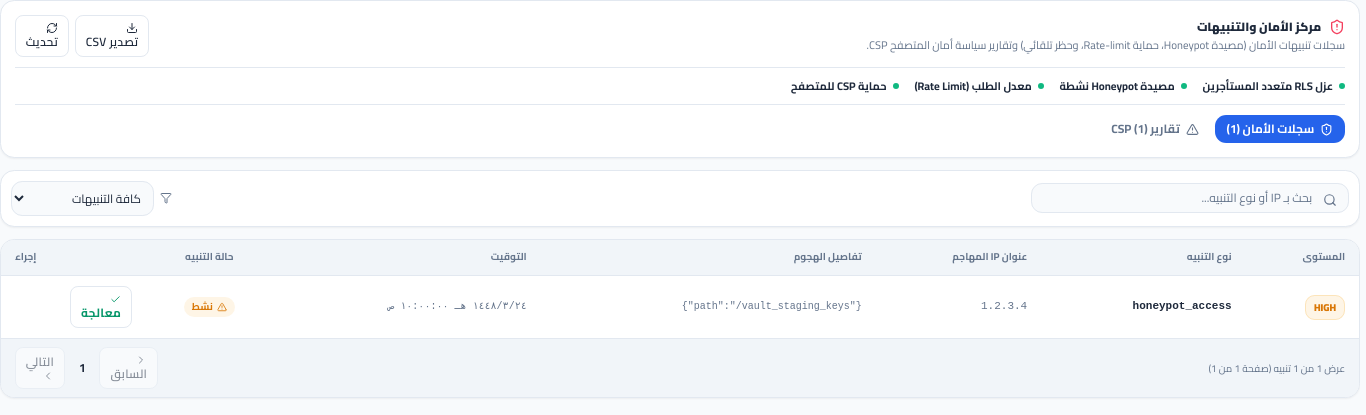
Test: SecurityAuditingHub — دخان بعد نقل الجداول إلى AdminTableShell › يبدّل إلى جدول CSP عند الضغط على تبويبه
Click the button "تقارير CSP (1)" at [1155, 129], box [1099,115,1211,143]
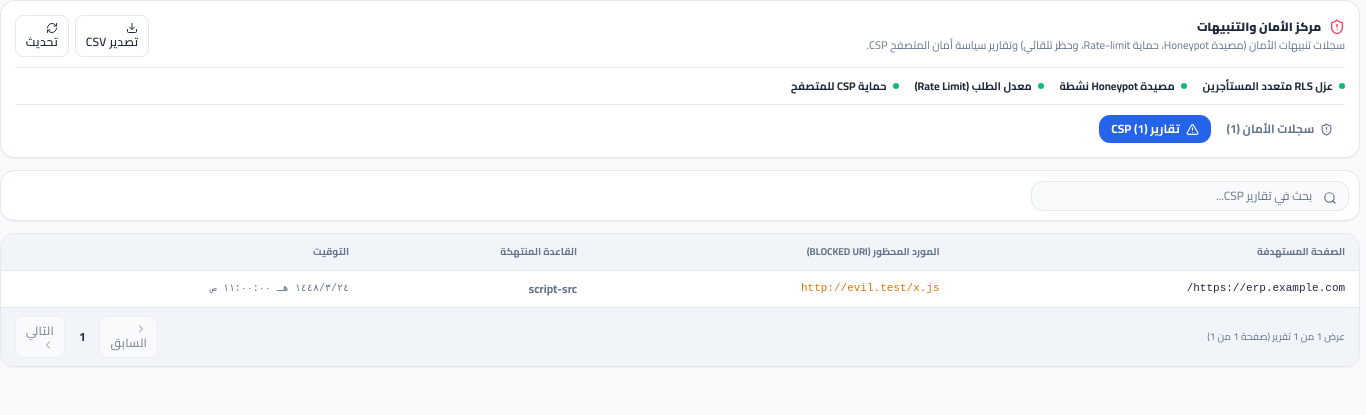
expect the column heading "الصفحة المستهدفة" is shown: met, box [954,234,1359,271]
expect the text "http://evil.test/x.js" is shown: met, box [591,271,954,307]
expect the text "script-src" is shown: met, box [363,271,591,307]
